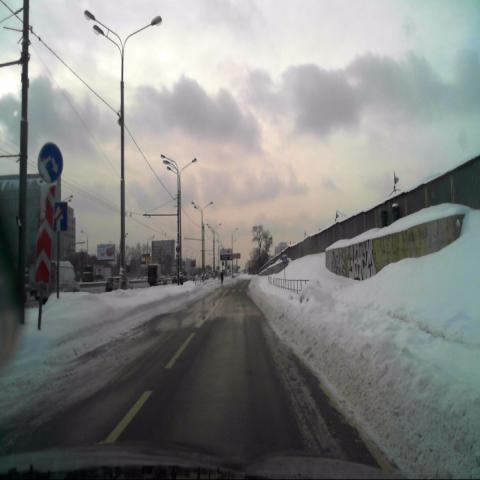5_6: (52, 201, 68, 235)
